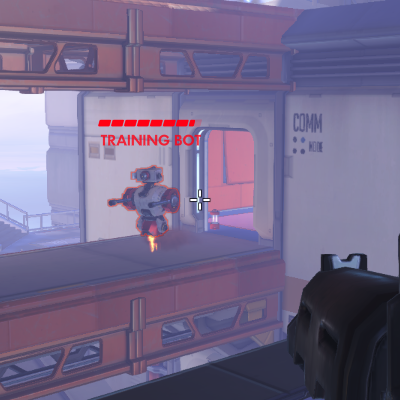hpbar: (98, 119, 202, 127)
